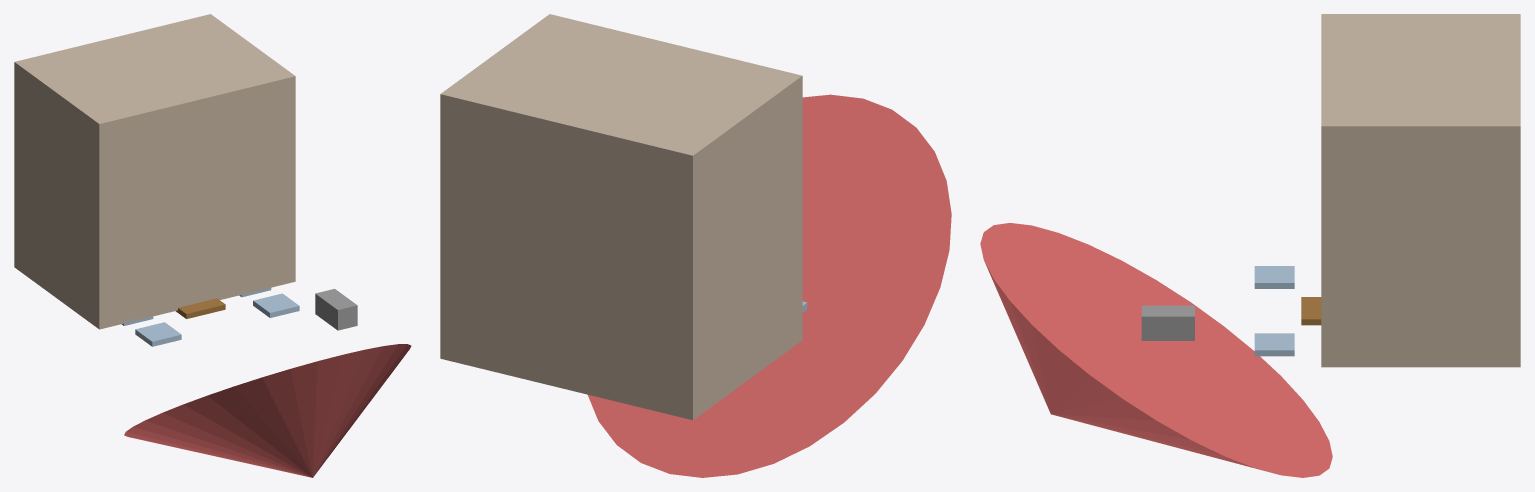
The model's file is house.glb.
3 renders of one model, left to right at view 1: azimuth 30°, elevation 25°; view 2: azimuth 150°, elevation 25°; view 3: azimuth 270°, elevation 25°, orthographic. The views are drawn at different scales.
Parts seen in each view (by area): view 1: geometry_0, geometry_1, geometry_3, geometry_4, geometry_2; view 2: geometry_0, geometry_1; view 3: geometry_0, geometry_1, geometry_4, geometry_3, geometry_2.
Part boxes in pixels (x1,y1,x2,y2): geometry_0: (14, 14, 295, 329); geometry_1: (124, 344, 411, 477); geometry_3: (121, 288, 299, 346); geometry_4: (315, 289, 357, 330); geometry_2: (175, 298, 225, 318); geometry_0: (440, 14, 802, 420); geometry_1: (588, 94, 951, 477); geometry_0: (1321, 14, 1520, 367); geometry_1: (980, 223, 1332, 477); geometry_4: (1141, 305, 1194, 340); geometry_3: (1254, 266, 1294, 356); geometry_2: (1301, 297, 1321, 325).
Size of the model in its own units: 5 by 6.42 by 8.13.
